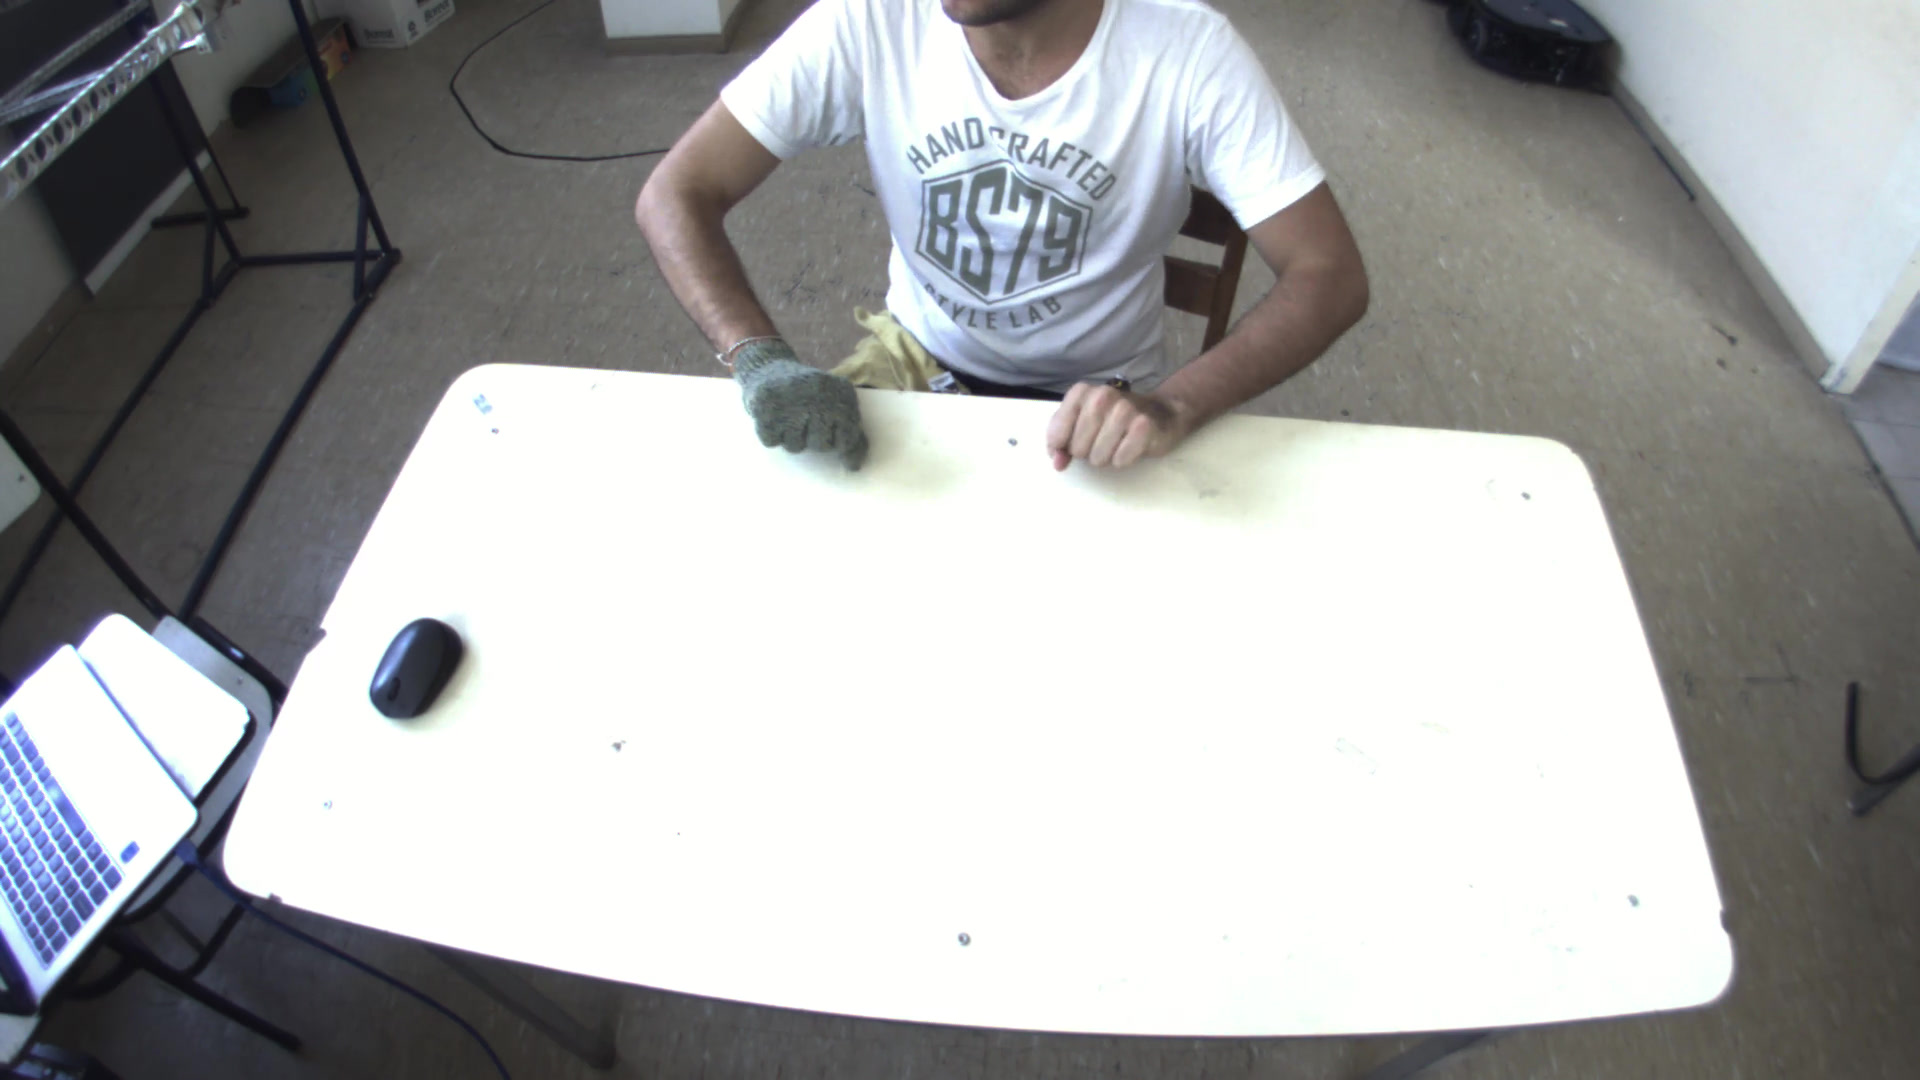hand: (719, 328, 876, 464), (1040, 365, 1201, 473)
